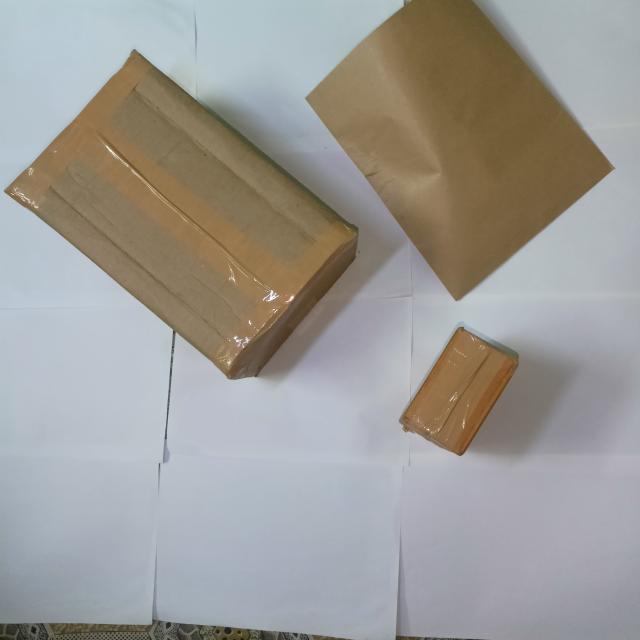box: (7, 53, 360, 383), (307, 1, 617, 303), (400, 328, 520, 458)
